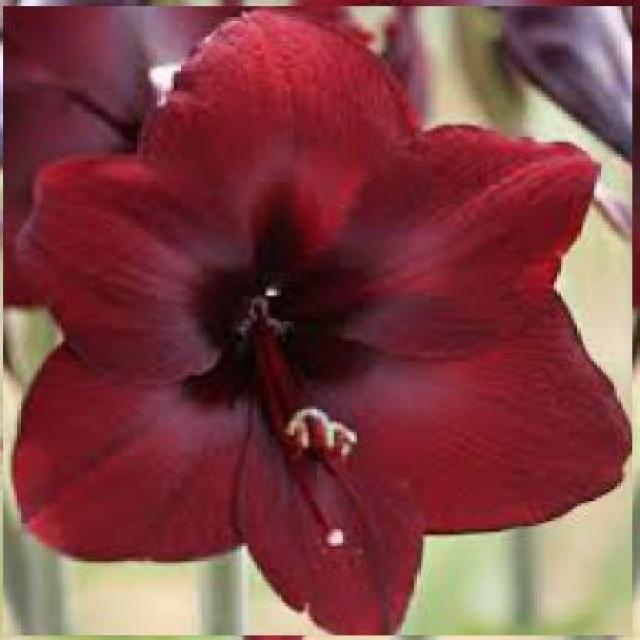Flower: (3, 6, 634, 637)
